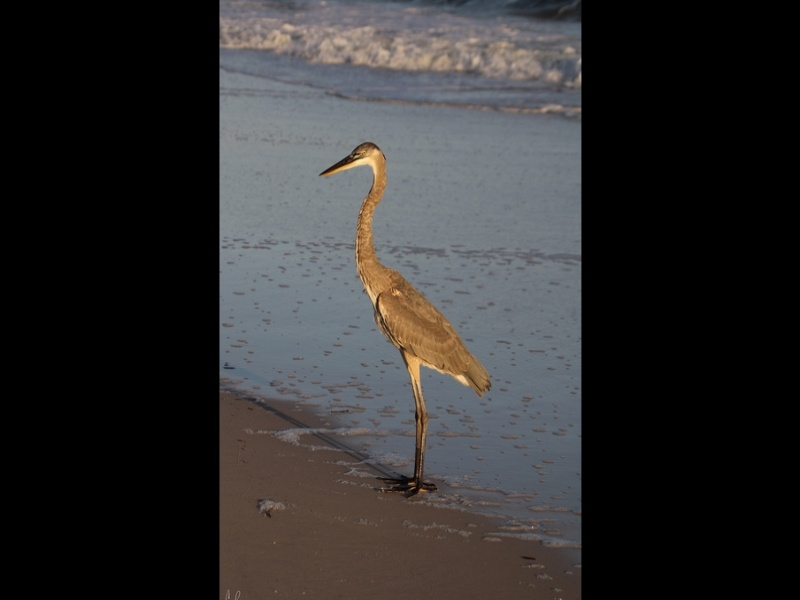heron: (315, 135, 496, 508)
